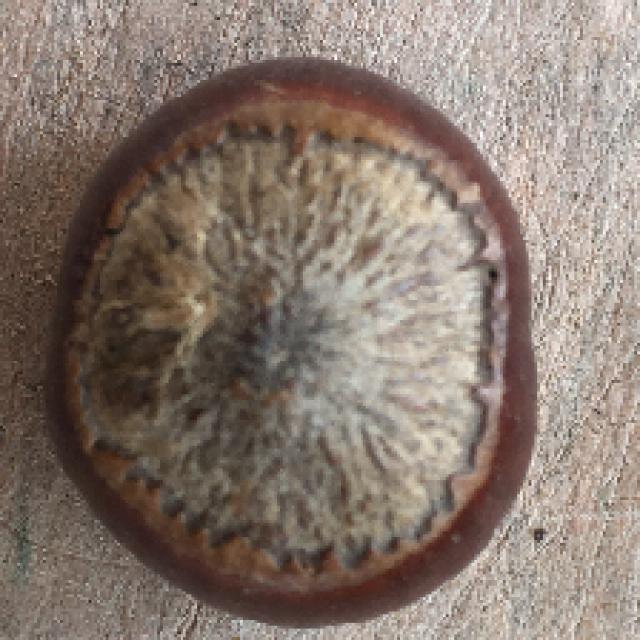qualityHazelnut: (46, 55, 539, 619)
